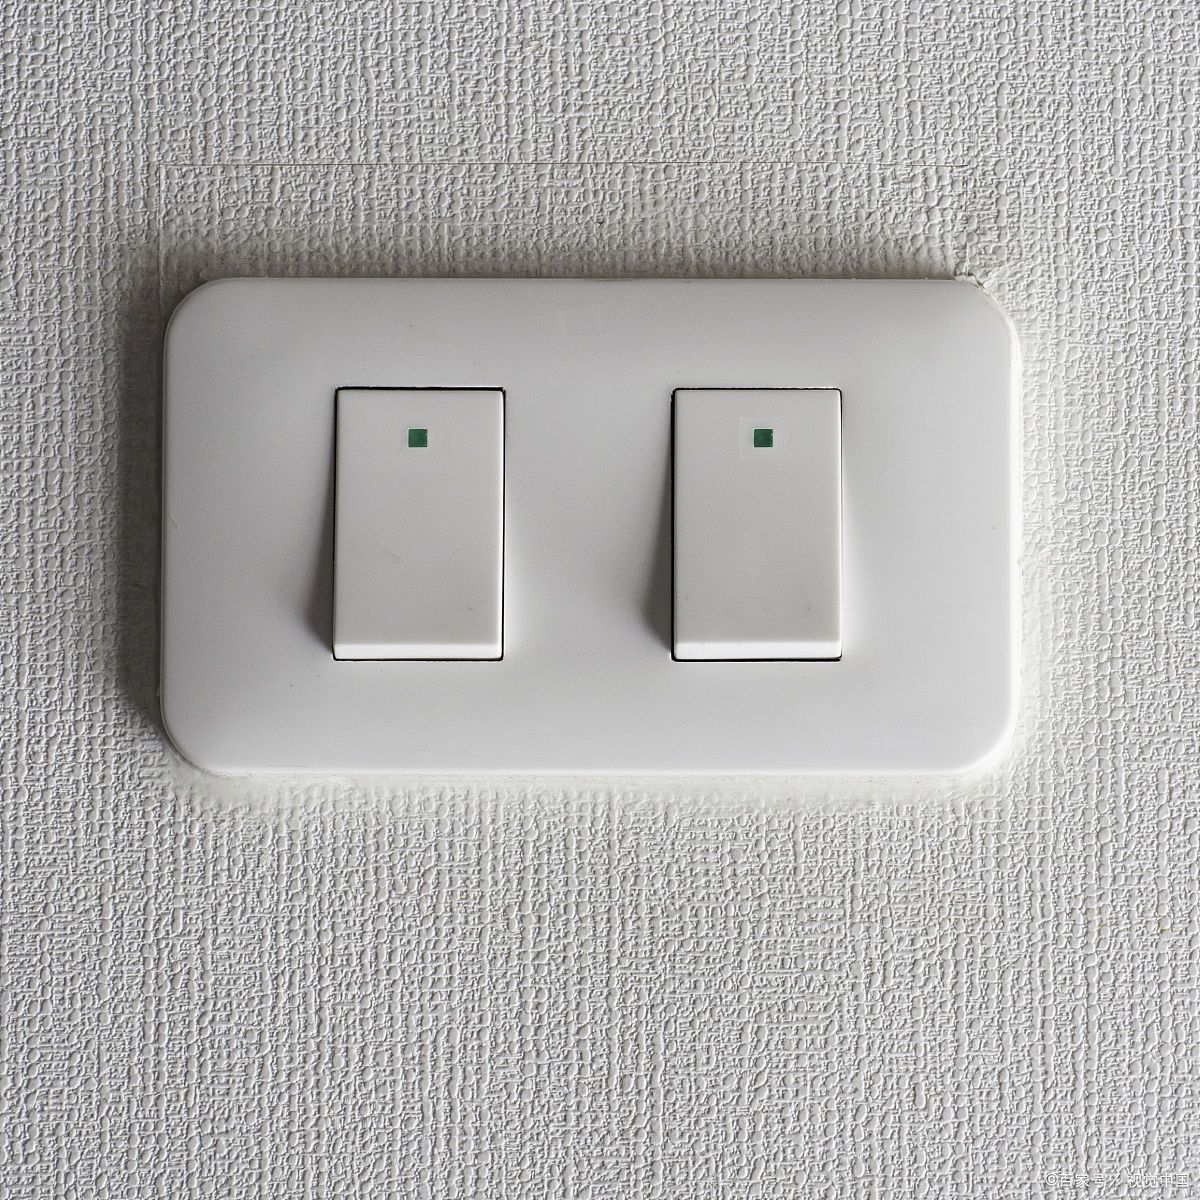button: (154, 277, 1025, 797)
